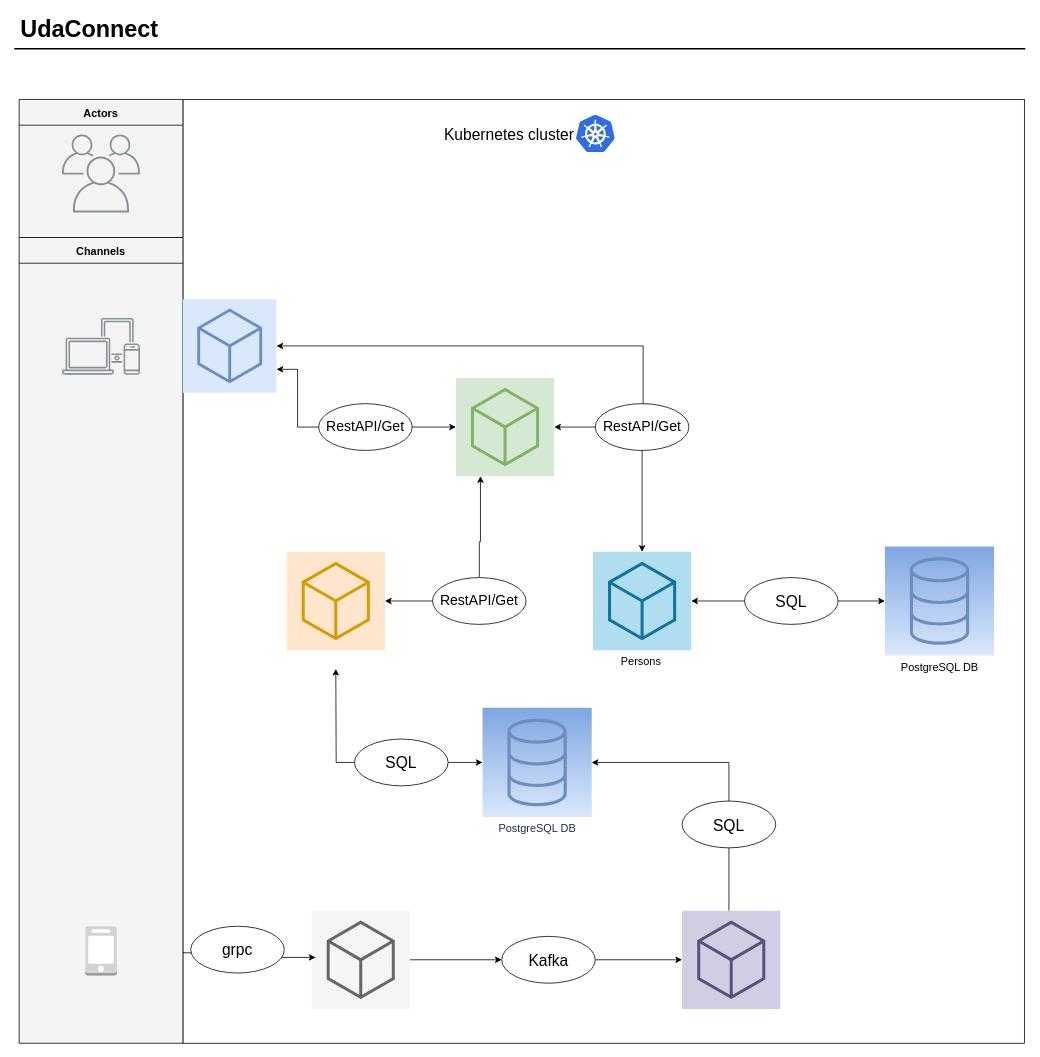
The diagram is 1040 pixels wide and 1057 high, and some of its shapes have lost their labels. The shapes that lost their labels are listed below. From the top down, each one's centre as x and y in pixels, then its label:
point (101, 173): users
point (101, 345): devices
point (229, 345): ReactJS Client
point (504, 426): Contacts
point (335, 600): Locations
point (360, 959): Location-producer
point (730, 959): Location-saver
